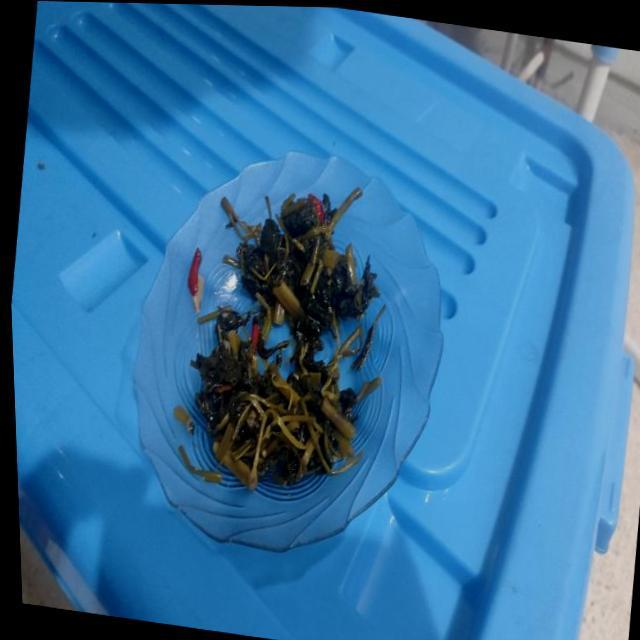tumis_kangkung: (190, 322, 381, 490), (236, 194, 379, 333)
